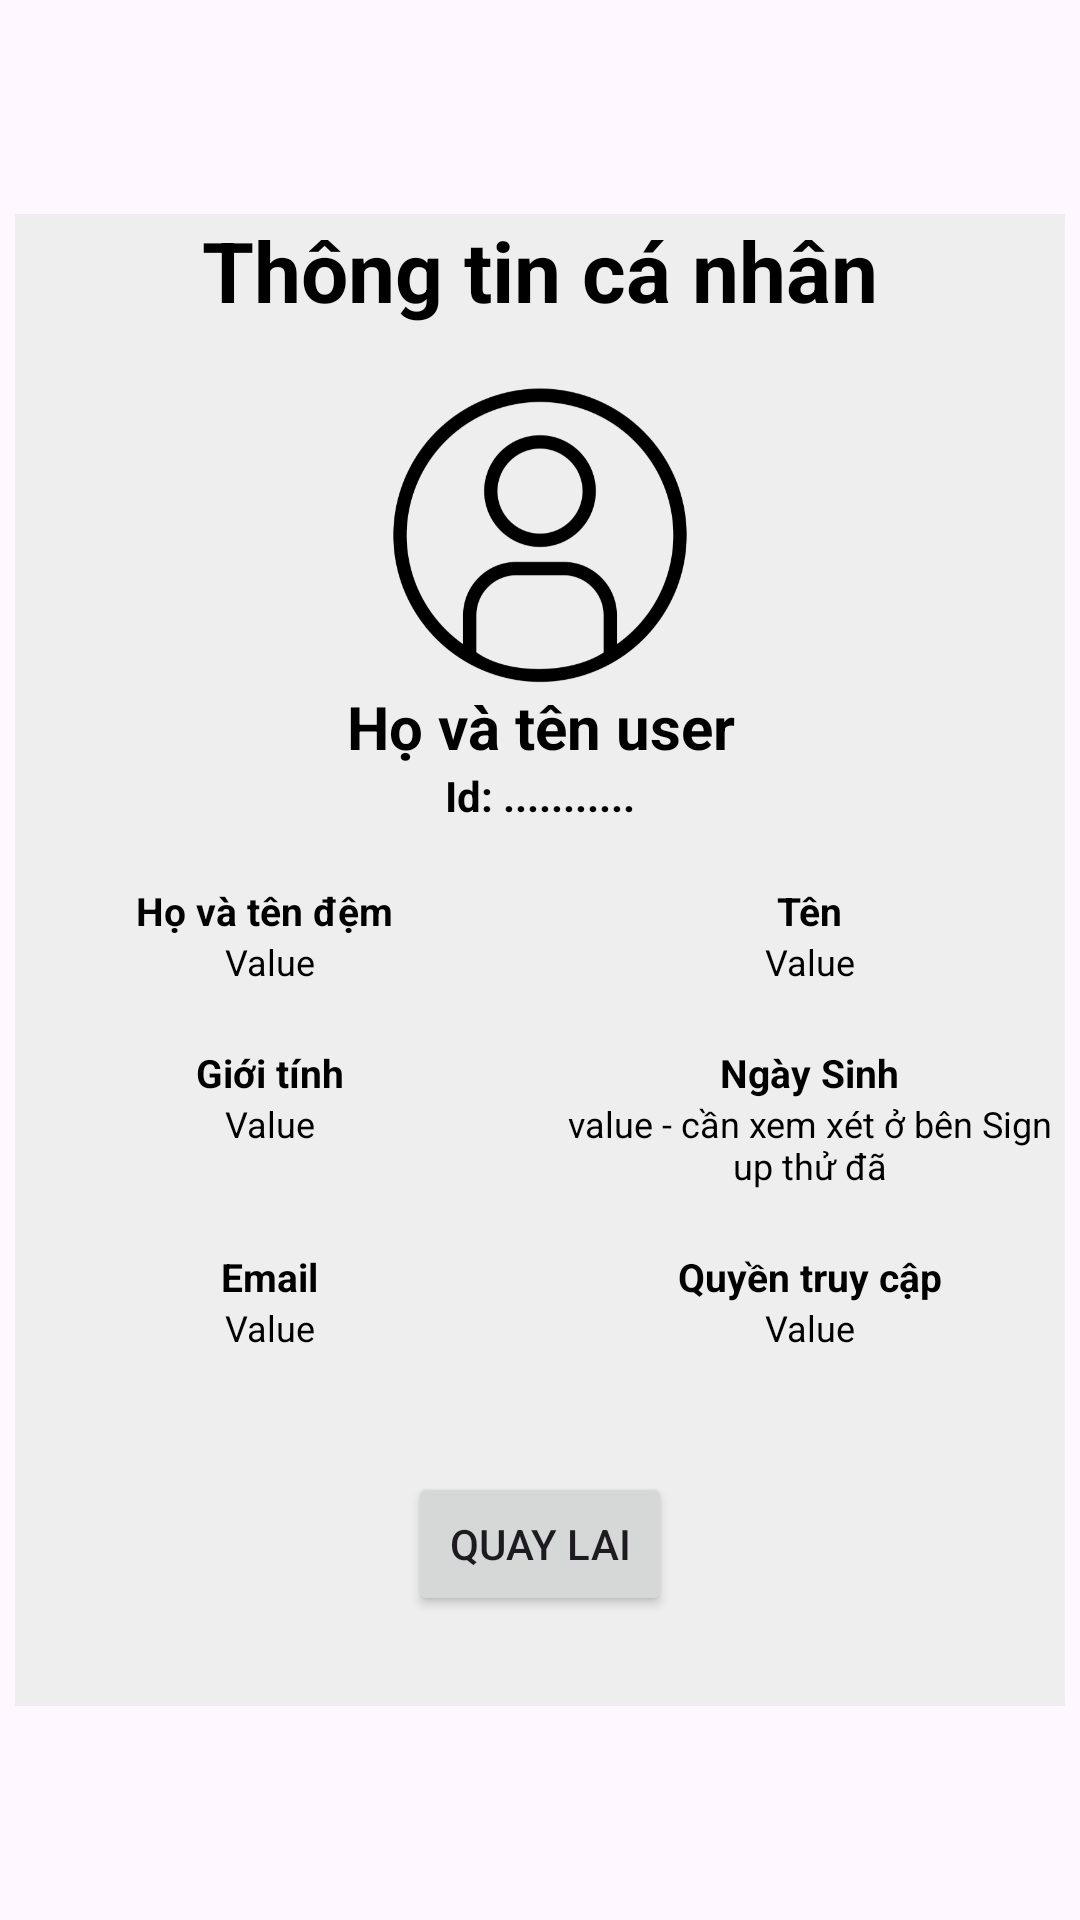

Screen size 1080px×1920px. Icon name, then its center in pixels as point (x, y):
account: point (540, 535)
